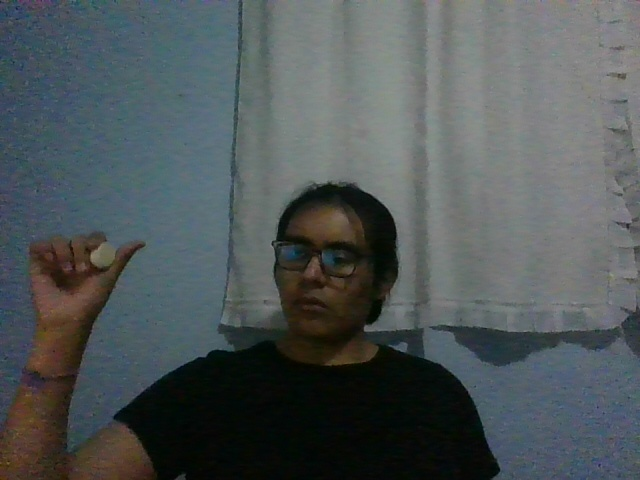goma: (89, 242, 116, 271)
